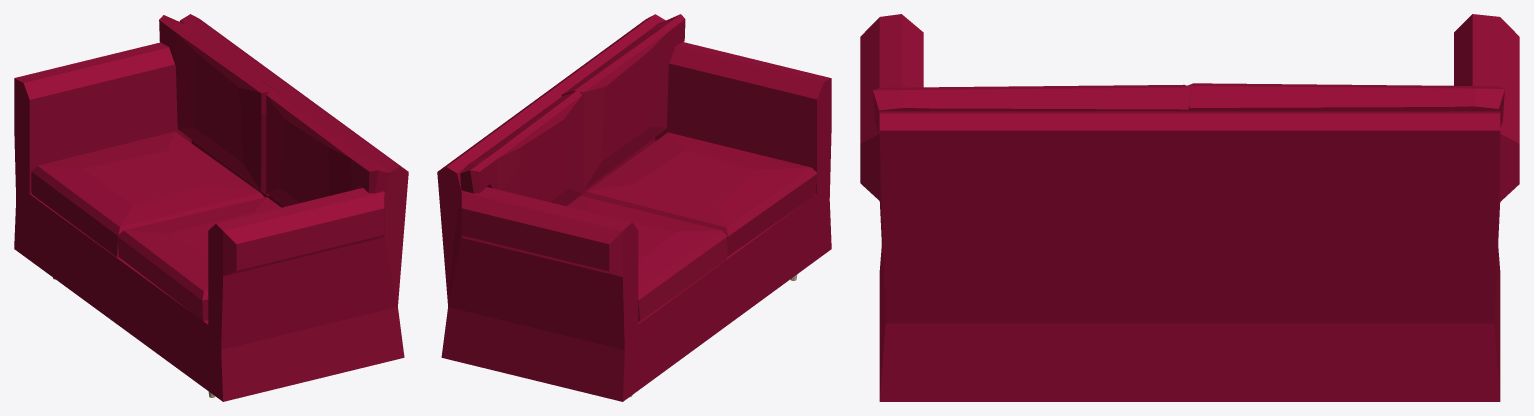
File: sofa.dae
3 renders of one model, left to right at view 1: azimuth 30°, elevation 25°; view 2: azimuth 150°, elevation 25°; view 3: azimuth 270°, elevation 25°, orthographic. The views are drawn at different scales.
Visible parts, largest first — view 1: IKEA_sofa_EKTORP; view 2: IKEA_sofa_EKTORP; view 3: IKEA_sofa_EKTORP.
Part boxes in pixels (x1,y1,x2,y2): IKEA_sofa_EKTORP: (14,14,408,401); IKEA_sofa_EKTORP: (437,14,831,401); IKEA_sofa_EKTORP: (860,14,1519,401).
Bounding box in the file's own units: 0.88 × 1.79 × 0.951.
